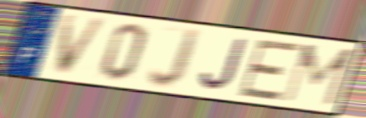0: (98, 21, 150, 84)
E: (235, 39, 304, 103)
J: (146, 26, 203, 91), (198, 36, 250, 92)
M: (279, 42, 358, 108)
V: (54, 14, 110, 77)
